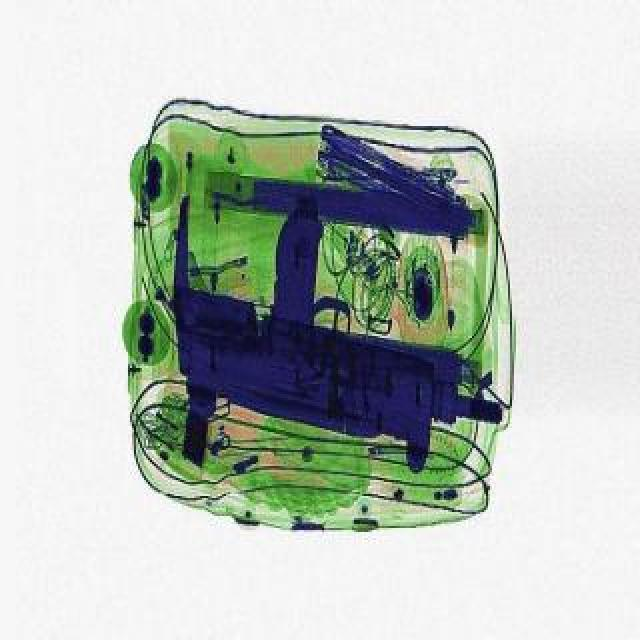gun: (168, 192, 508, 470)
